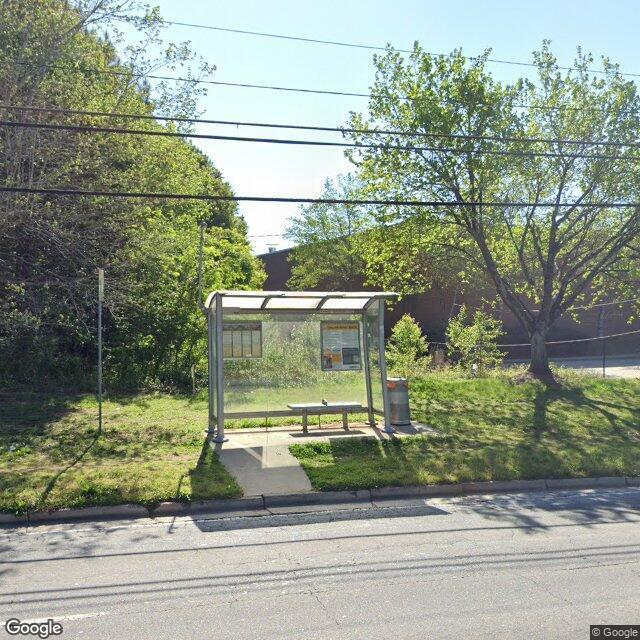seating: (286, 399, 362, 434)
shelter: (206, 290, 400, 444)
trash_can: (385, 378, 410, 427)
